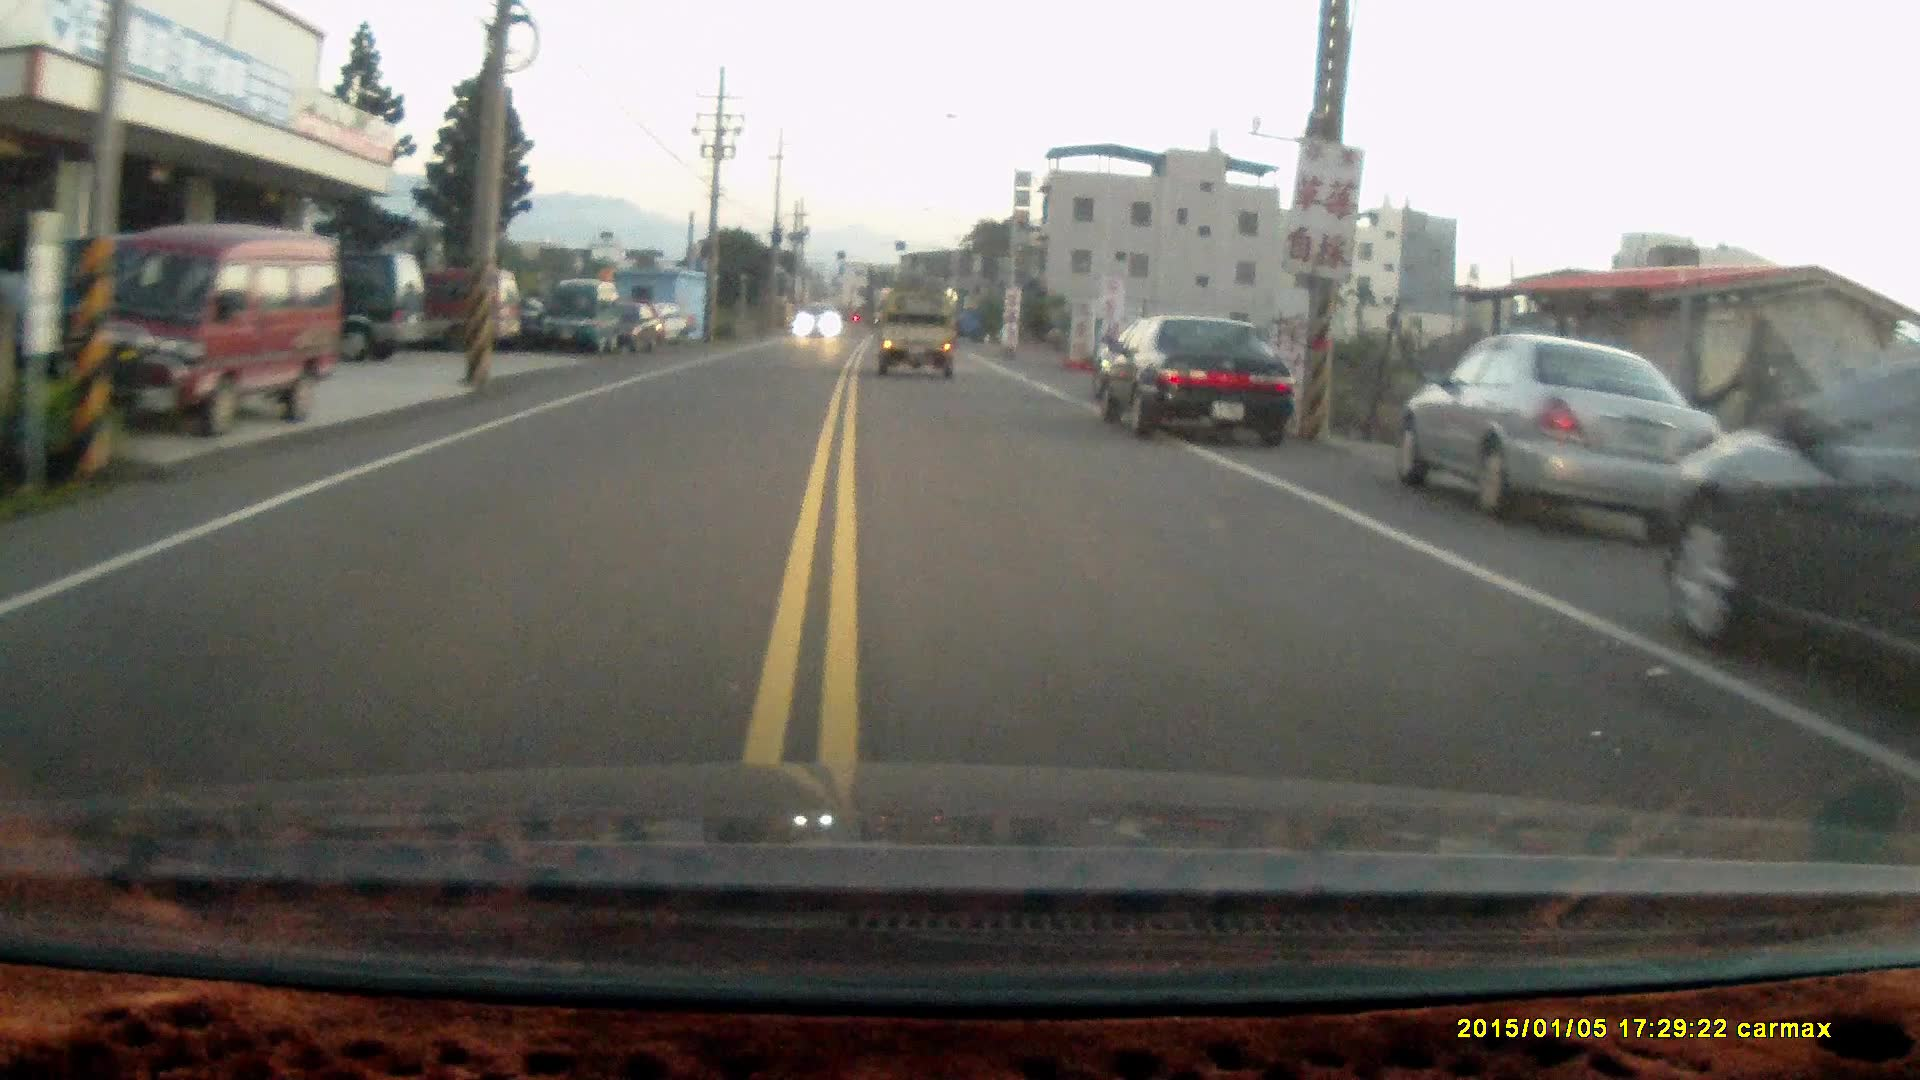vehicle: (1658, 343, 1920, 699), (1396, 334, 1726, 531), (44, 229, 338, 438), (1091, 313, 1296, 448), (222, 249, 434, 365), (357, 269, 527, 352), (874, 294, 961, 385), (541, 277, 622, 357)
